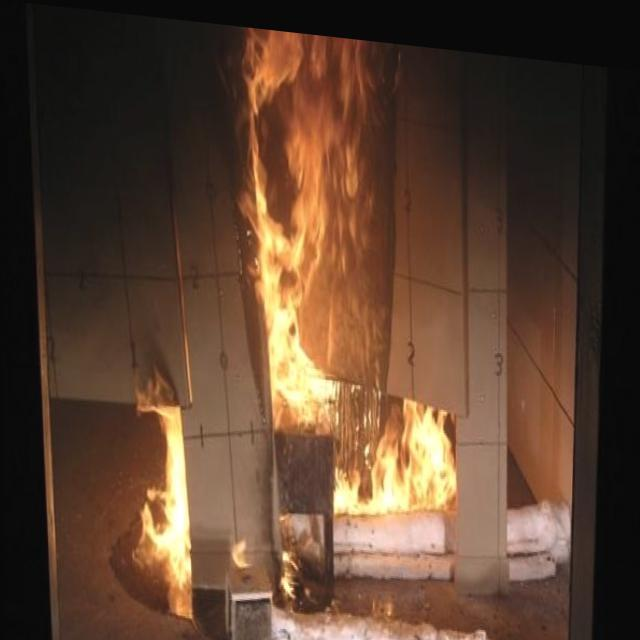Fire: (115, 12, 499, 616)
